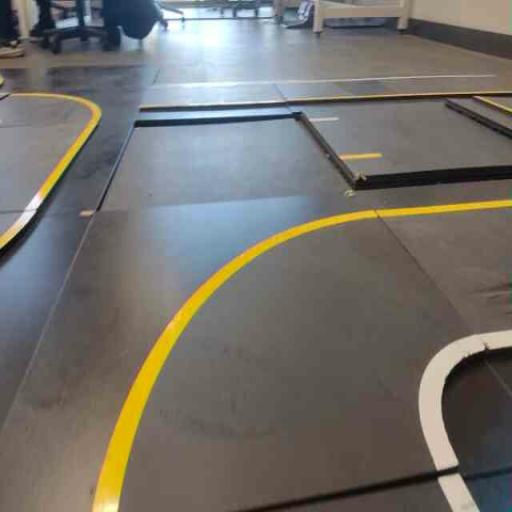right: (87, 195, 505, 511)
